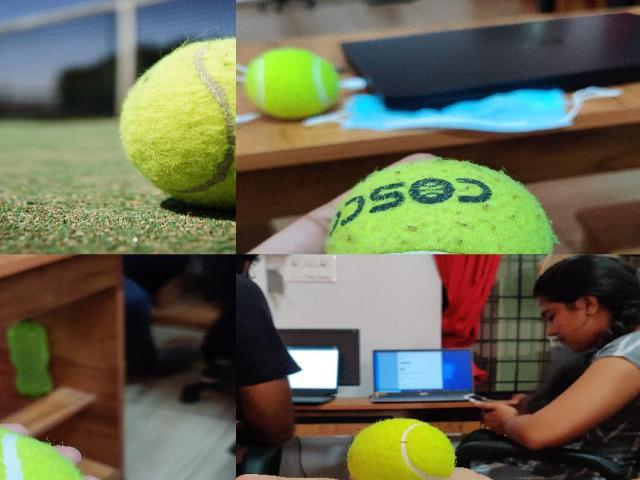tennis-ball: (326, 160, 553, 254), (119, 36, 235, 212), (348, 418, 454, 480), (244, 48, 338, 117), (0, 427, 84, 480)
